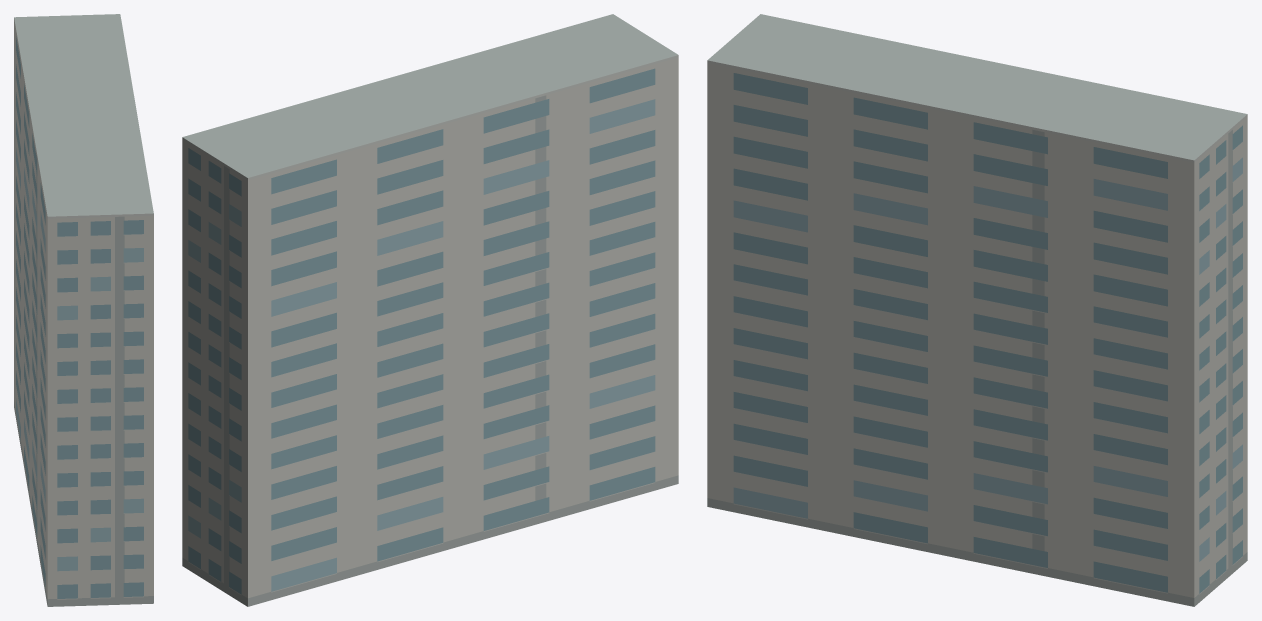
Rendered from residential-0af1b795-b293-4754-928e-0374a21af788.glb.
3 renders of one model, left to right at view 1: azimuth 30°, elevation 25°; view 2: azimuth 150°, elevation 25°; view 3: azimuth 270°, elevation 25°, orthographic. The views are drawn at different scales.
Parts seen in each view (by area): view 1: residential-0af1b795-b293-4754-928e-0374a21af788.tmp; view 2: residential-0af1b795-b293-4754-928e-0374a21af788.tmp; view 3: residential-0af1b795-b293-4754-928e-0374a21af788.tmp.
Boxes of the visible parts, x1,y1,x2,y2 form: residential-0af1b795-b293-4754-928e-0374a21af788.tmp: (14, 14, 153, 606); residential-0af1b795-b293-4754-928e-0374a21af788.tmp: (182, 14, 678, 606); residential-0af1b795-b293-4754-928e-0374a21af788.tmp: (707, 14, 1247, 606).
Size of the model in its own units: 30.04 by 42.7 by 46.84.
